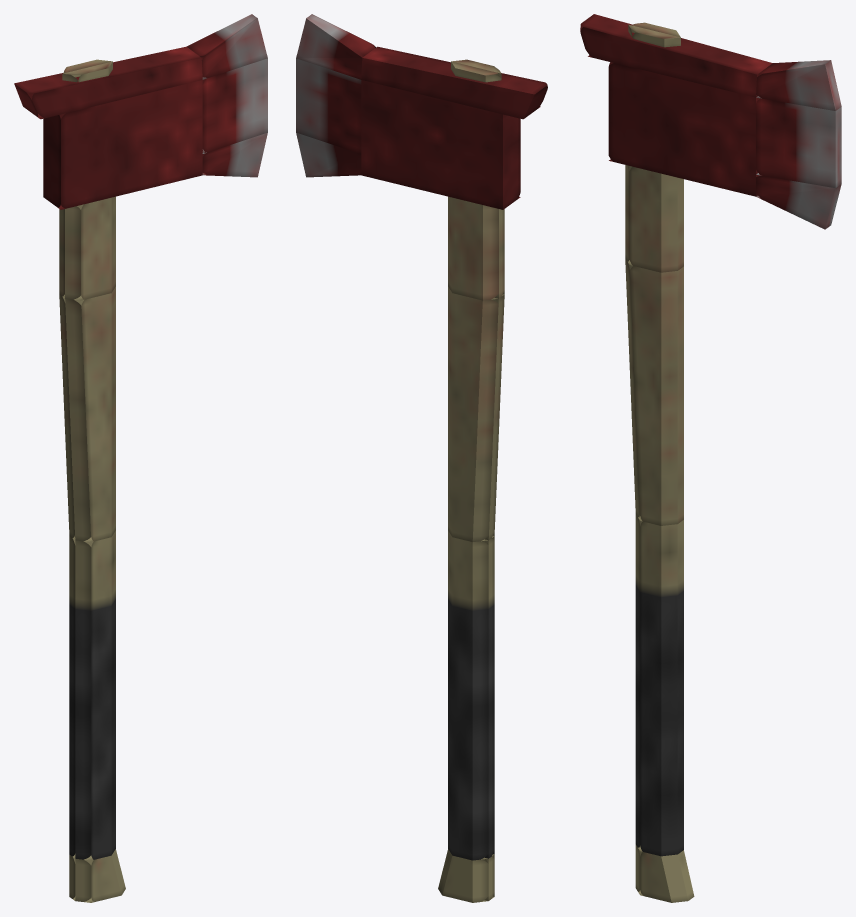
File: fireaxe.obj
The picture shows the model from 3 angles, left to right: view 1: azimuth 30°, elevation 25°; view 2: azimuth 150°, elevation 25°; view 3: azimuth 330°, elevation 25°; orthographic projection. The views are drawn at different scales.
Visible parts, largest first — view 1: gunModel9, gunModel5, gunModel4, gunModel10, gunModel13, gunModel3, gunModel11, gunModel0, gunModel14, gunModel12, gunModel1, gunModel17 (+1 smaller); view 2: gunModel9, gunModel8, gunModel7, gunModel10, gunModel13, gunModel6, gunModel11, gunModel0, gunModel15, gunModel12, gunModel1, gunModel18 (+1 smaller); view 3: gunModel9, gunModel5, gunModel4, gunModel10, gunModel13, gunModel3, gunModel11, gunModel12, gunModel0, gunModel14, gunModel1, gunModel17 (+1 smaller).
Part boxes in pixels (bbox=[...]): gunModel9: bbox=[43, 80, 202, 209]; gunModel5: bbox=[75, 530, 115, 860]; gunModel4: bbox=[65, 286, 115, 541]; gunModel10: bbox=[14, 46, 202, 119]; gunModel13: bbox=[202, 58, 267, 153]; gunModel3: bbox=[65, 196, 115, 300]; gunModel11: bbox=[186, 14, 267, 79]; gunModel0: bbox=[69, 536, 93, 858]; gunModel14: bbox=[75, 849, 125, 902]; gunModel12: bbox=[202, 132, 267, 177]; gunModel1: bbox=[59, 295, 83, 539]; gunModel17: bbox=[62, 61, 112, 82]; gunModel9: bbox=[361, 80, 520, 209]; gunModel8: bbox=[448, 530, 488, 860]; gunModel7: bbox=[448, 286, 498, 541]; gunModel10: bbox=[361, 46, 547, 119]; gunModel13: bbox=[296, 58, 361, 153]; gunModel6: bbox=[448, 196, 498, 300]; gunModel11: bbox=[296, 14, 375, 79]; gunModel0: bbox=[481, 538, 494, 858]; gunModel15: bbox=[438, 849, 488, 902]; gunModel12: bbox=[296, 132, 361, 177]; gunModel1: bbox=[485, 296, 504, 540]; gunModel18: bbox=[451, 61, 501, 82]; gunModel9: bbox=[608, 62, 762, 196]; gunModel5: bbox=[635, 514, 677, 856]; gunModel4: bbox=[625, 258, 677, 525]; gunModel10: bbox=[580, 14, 772, 97]; gunModel13: bbox=[756, 97, 841, 187]; gunModel3: bbox=[625, 165, 677, 272]; gunModel11: bbox=[756, 60, 841, 110]; gunModel12: bbox=[756, 174, 841, 229]; gunModel0: bbox=[638, 518, 683, 853]; gunModel14: bbox=[635, 844, 688, 902]; gunModel1: bbox=[627, 262, 683, 523]; gunModel17: bbox=[628, 24, 680, 47].
Size of the model in its own units: 24 by 79 by 3.
